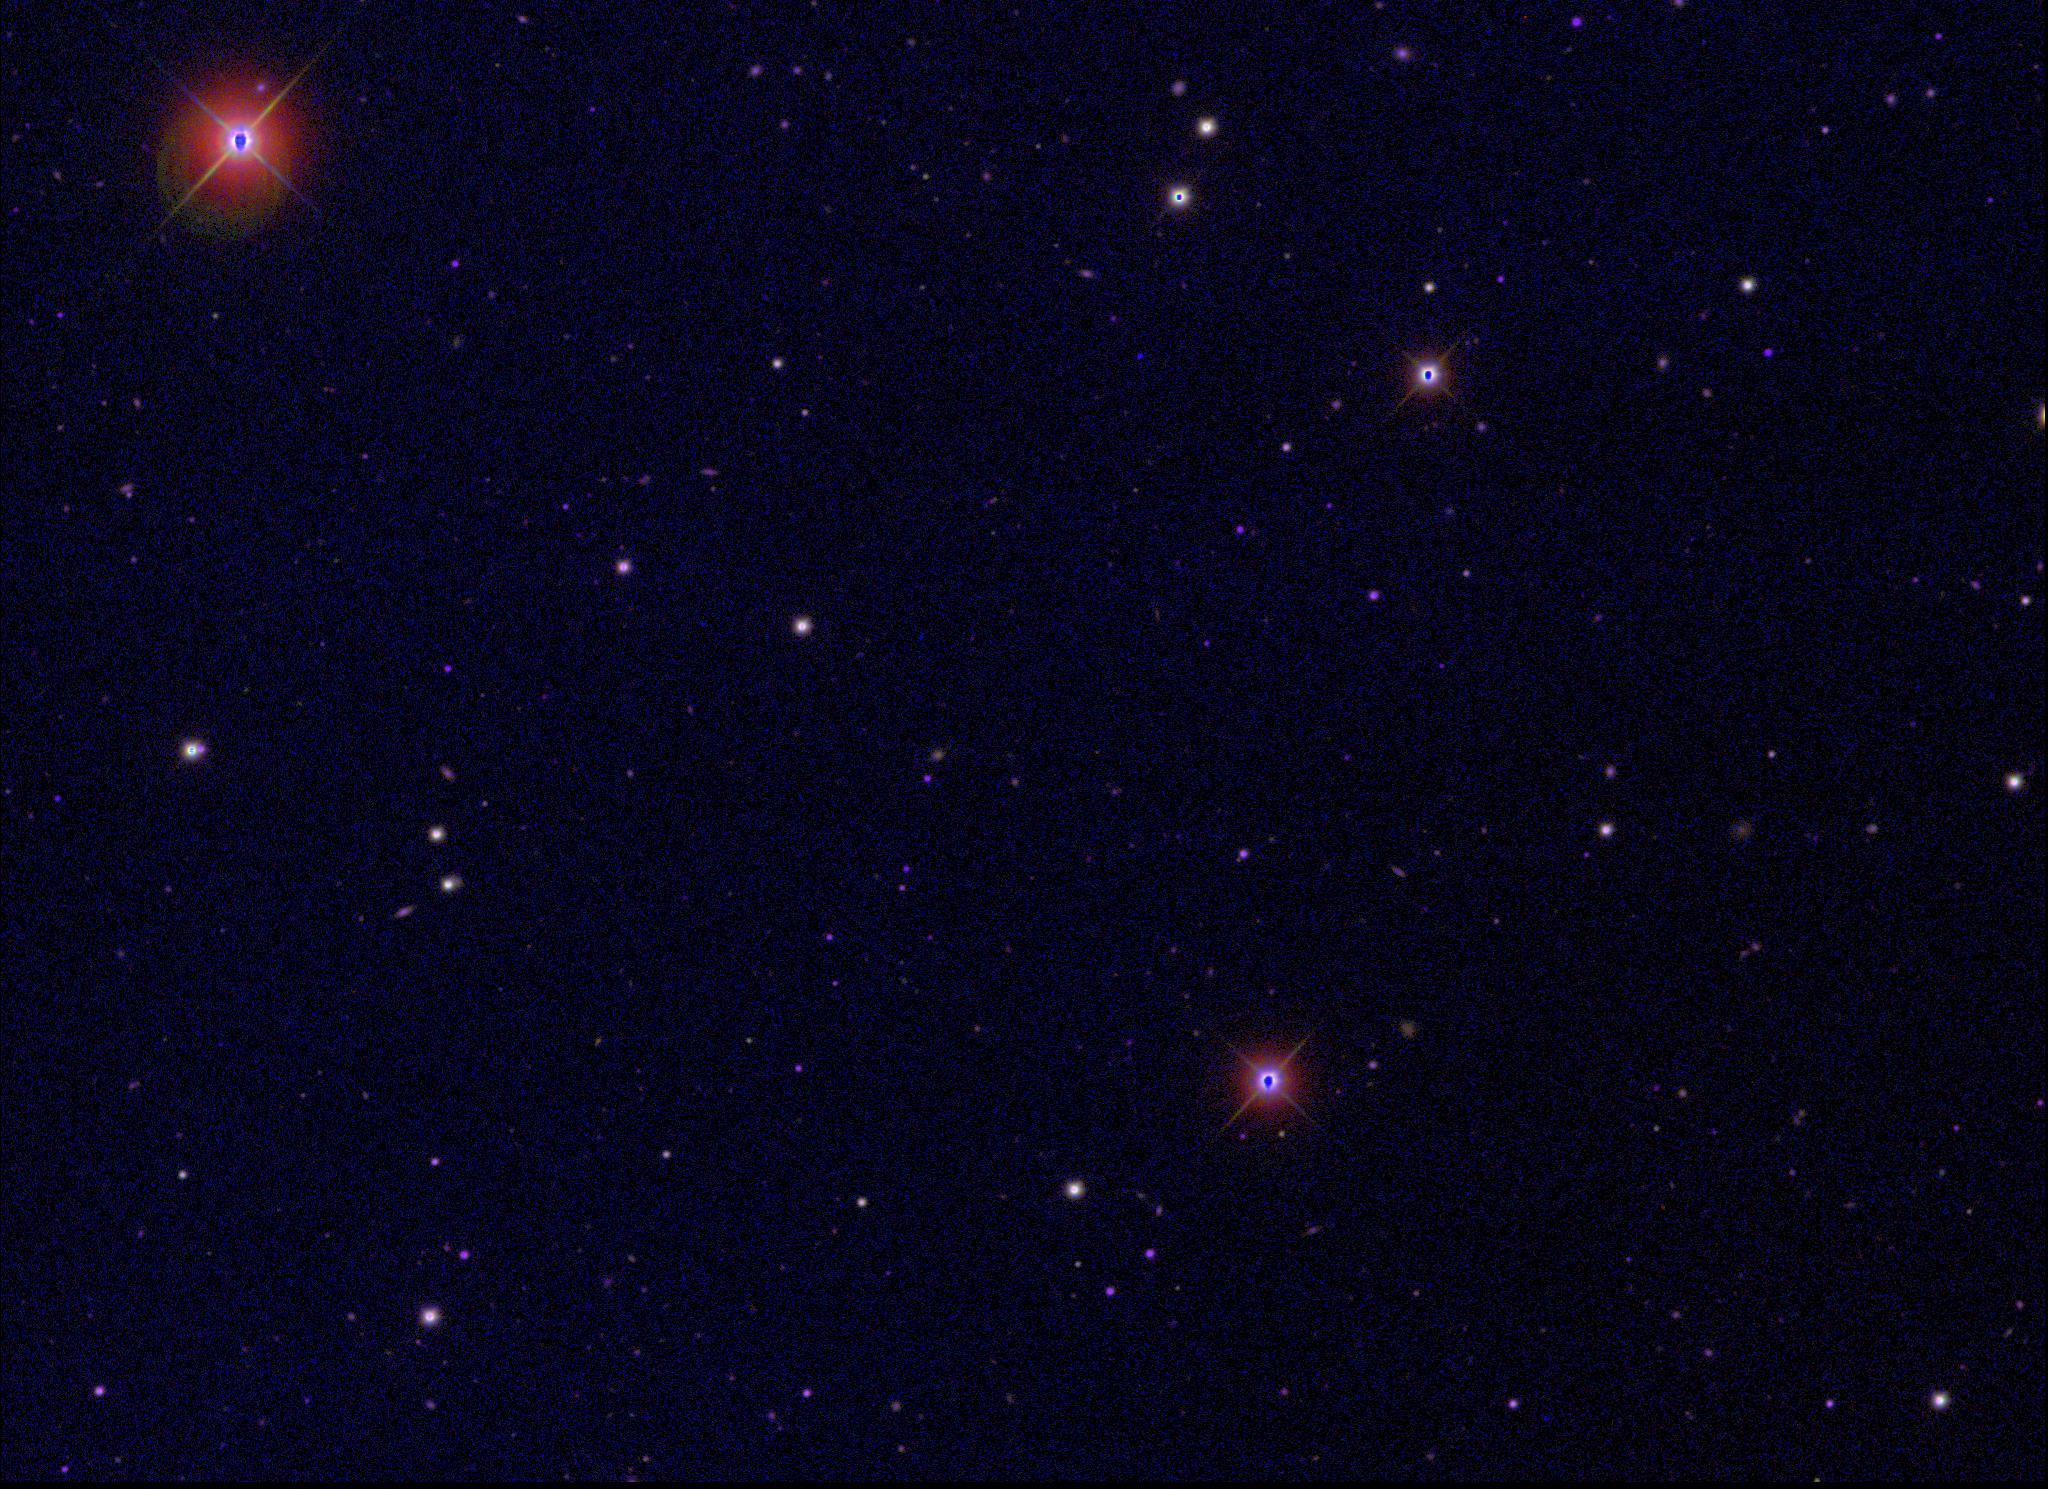L: (1134, 350, 1146, 364)
